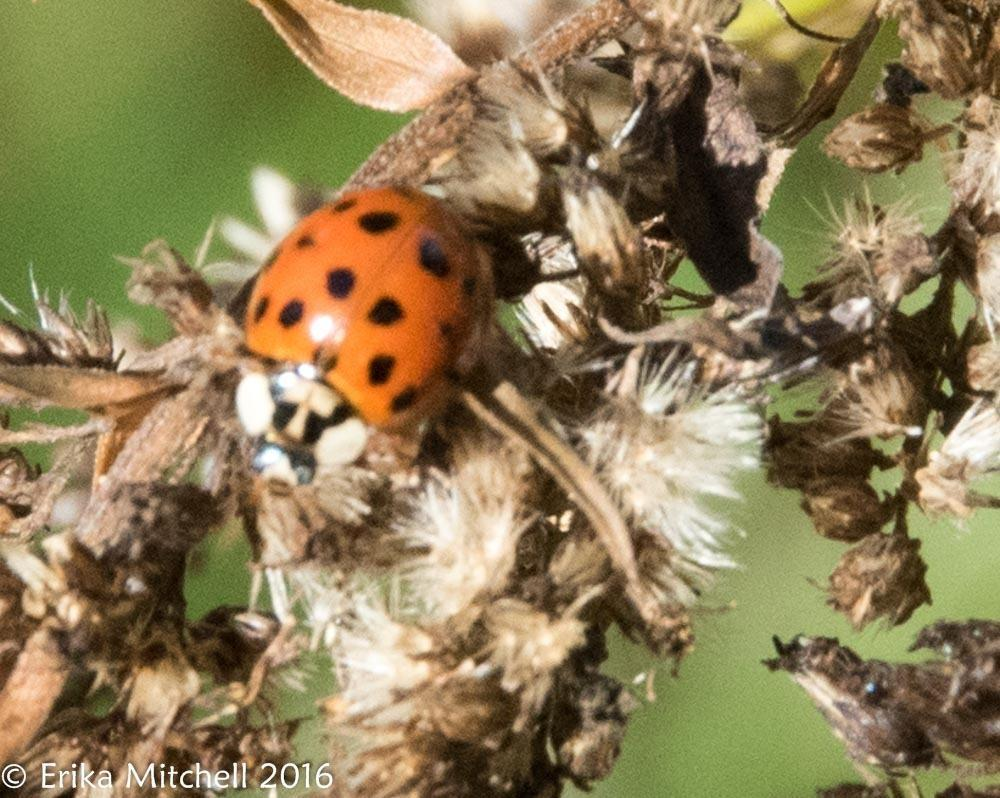ladybug: (231, 179, 501, 503)
